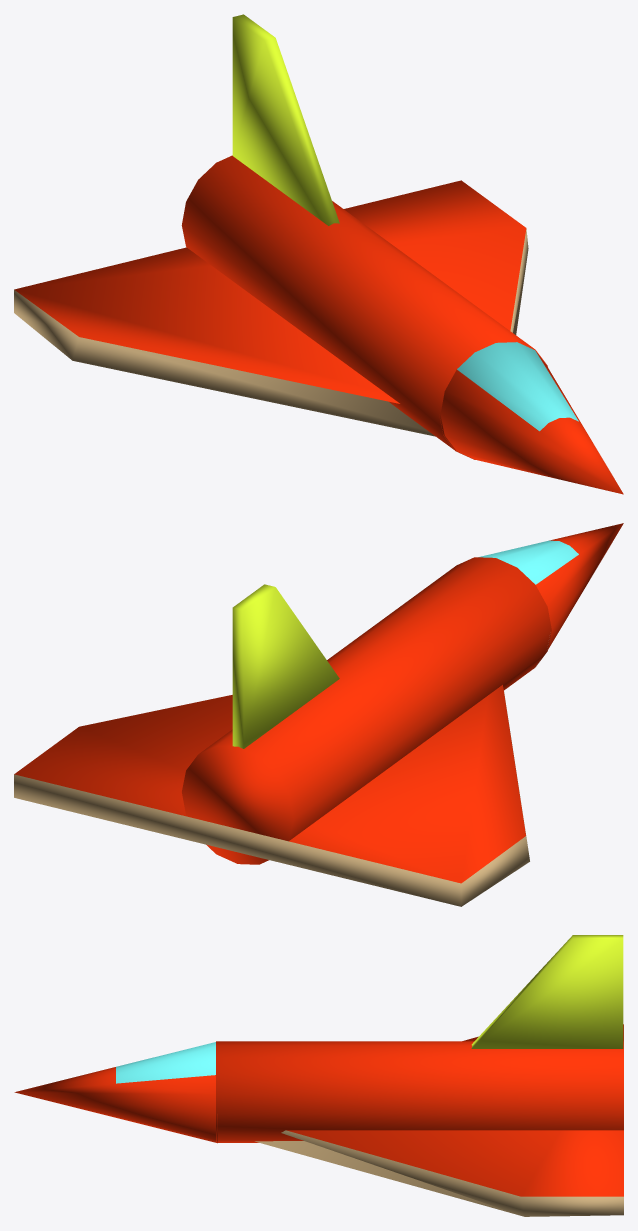
3 renders of one model, top to bottom at view 1: azimuth 30°, elevation 25°; view 2: azimuth 150°, elevation 25°; view 3: azimuth 270°, elevation 25°, orthographic. The views are drawn at different scales.
Parts seen in each view (by area): view 1: tail_mtl_body, tail_mtl_tail, tail_mtl_wing, tail_mtl_window; view 2: tail_mtl_body, tail_mtl_wing, tail_mtl_tail, tail_mtl_window; view 3: tail_mtl_body, tail_mtl_tail, tail_mtl_wing, tail_mtl_window.
Boxes of the visible parts, x1,y1,x2,y2 form: tail_mtl_body: (14,155,623,494); tail_mtl_tail: (232,14,339,225); tail_mtl_wing: (14,228,528,436); tail_mtl_window: (457,342,578,431); tail_mtl_body: (14,523,623,883); tail_mtl_wing: (14,692,529,906); tail_mtl_tail: (232,584,339,748); tail_mtl_window: (478,540,578,584); tail_mtl_body: (14,1024,623,1196); tail_mtl_tail: (471,935,623,1048); tail_mtl_wing: (255,1130,623,1216); tail_mtl_window: (116,1042,215,1083).
Bounding box in the file's own units: 4.08 × 2.18 × 5.98.
